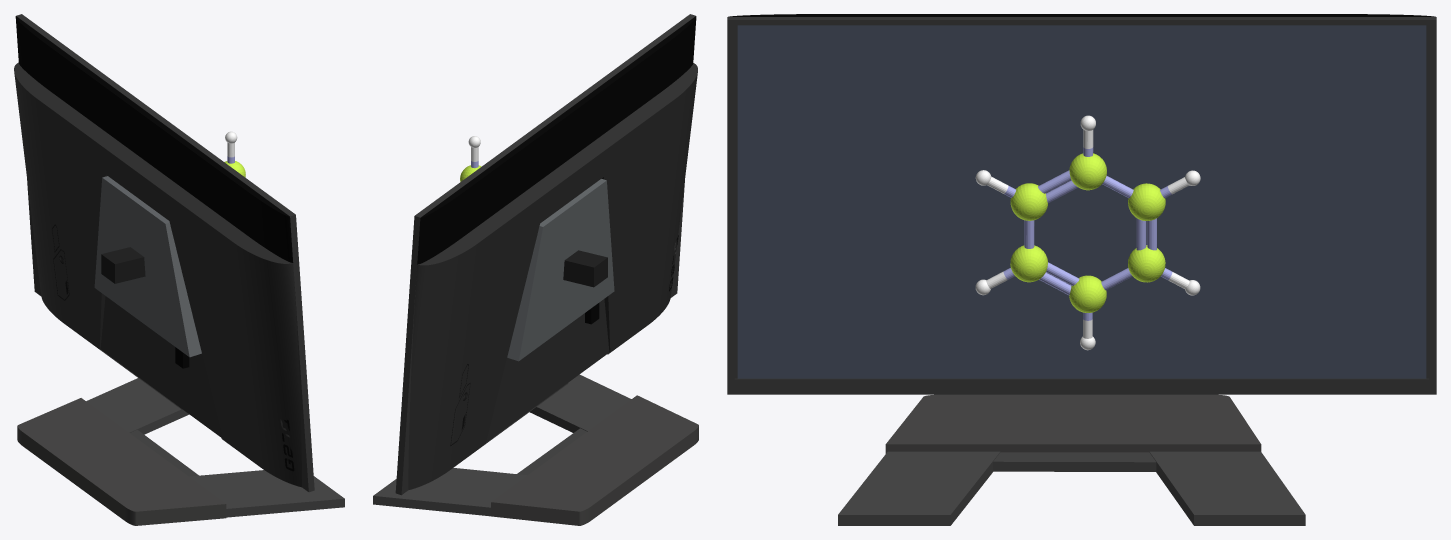
File: molecule.gltf
3 renders of one model, left to right at view 1: azimuth 30°, elevation 25°; view 2: azimuth 150°, elevation 25°; view 3: azimuth 270°, elevation 25°, orthographic. The views are drawn at different scales.
Visible parts, largest first — view 1: Cube.002, Cube.003, Cube.007, Cube.004, Cube.001, Cube.008, Cube.009, Cube.005, Cube.010, Shape_IndexedFaceSet.002; view 2: Cube.002, Cube.003, Cube.007, Cube.004, Cube.001, Cube.009, Cube.008, Cube.005, Cube.010, Shape_IndexedFaceSet.002; view 3: MY SCREEN, Cube.001, Cube.007, Shape_IndexedFaceSet.002, Cube.008, Cube.009, Cube.010, Cube.003.
Part boxes in pixels (x1,y1,x2,y2): Cube.002: (14,62,301,487); Cube.003: (15,16,293,262); Cube.007: (17,398,226,525); Cube.004: (94,176,201,357); Cube.001: (16,14,314,492); Cube.008: (189,470,344,517); Cube.009: (86,378,189,434); Cube.005: (101,247,145,283); Cube.010: (130,429,198,476); Shape_IndexedFaceSet.002: (224,131,245,177); Cube.002: (408,63,697,489); Cube.003: (417,16,696,264); Cube.007: (491,395,698,525); Cube.004: (507,179,614,361); Cube.001: (395,14,695,495); Cube.009: (373,468,526,516); Cube.008: (529,374,631,432); Cube.005: (563,250,607,287); Cube.010: (517,428,586,475); Shape_IndexedFaceSet.002: (460,136,481,181); MY SCREEN: (737,25,1426,378); Cube.001: (727,17,1436,394); Cube.007: (885,394,1261,453); Shape_IndexedFaceSet.002: (975,115,1200,350); Cube.008: (838,451,1000,525); Cube.009: (1149,451,1305,525); Cube.010: (993,452,1156,471); Cube.003: (728,14,1435,16).
Bounding box in the file's own units: 5.45 × 10.08 × 14.46.
14 materials, 4 textured.
